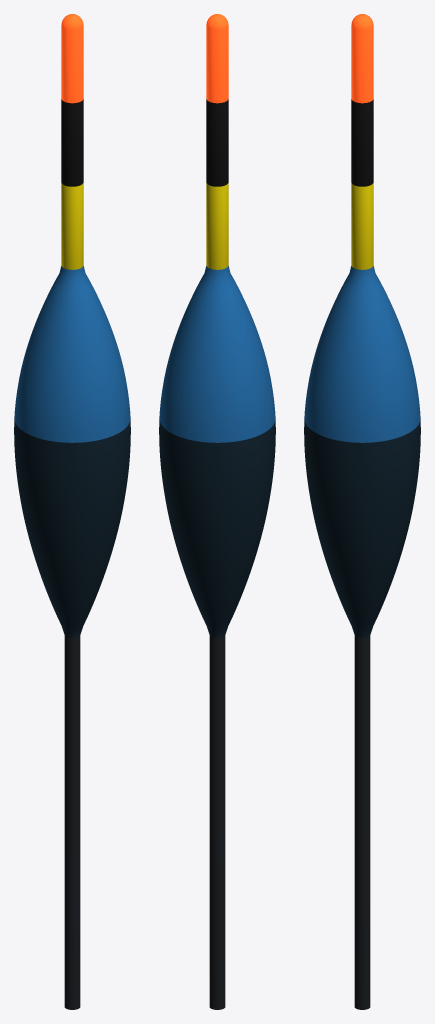
Rendered from orion.glb.
3 renders of one model, left to right at view 1: azimuth 30°, elevation 25°; view 2: azimuth 210°, elevation 25°; view 3: azimuth 330°, elevation 25°, orthographic.
Visible parts, largest first — view 1: orion; view 2: orion; view 3: orion.
Part boxes in pixels (left/top/right/bottom): orion: left=14, top=14, right=130, bottom=1009; orion: left=159, top=14, right=275, bottom=1009; orion: left=304, top=14, right=420, bottom=1009.
Size of the model in its own units: 0.019 by 0.178 by 0.019.
